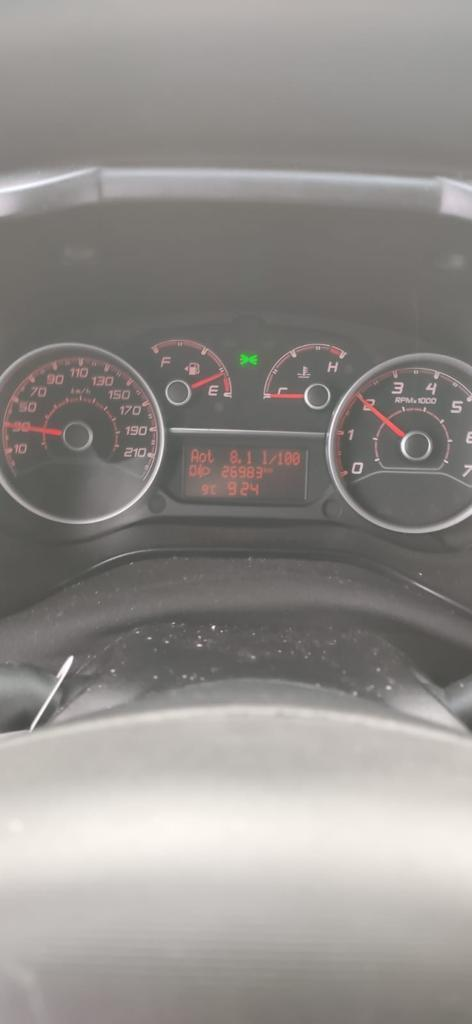,: (237, 458, 241, 464)
0: (291, 450, 300, 467), (283, 450, 291, 466), (188, 464, 196, 477)
1: (244, 448, 253, 465), (277, 450, 283, 466)
2: (238, 480, 248, 496), (220, 464, 228, 478)
3: (255, 465, 263, 479)
4: (249, 481, 259, 497)
6: (229, 465, 237, 479)
8: (228, 448, 237, 464), (246, 465, 254, 479)
9: (226, 480, 237, 496), (237, 465, 246, 479), (199, 483, 208, 496)
X: (189, 447, 199, 463), (206, 447, 215, 464), (259, 449, 266, 465), (267, 453, 276, 465), (199, 451, 206, 463), (210, 483, 217, 495), (267, 465, 272, 474), (262, 465, 267, 473)
odometer: (177, 440, 310, 503)
